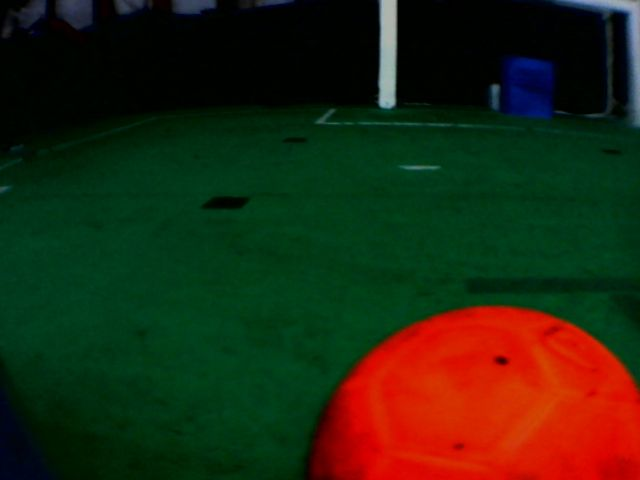ball: (295, 292, 640, 479)
